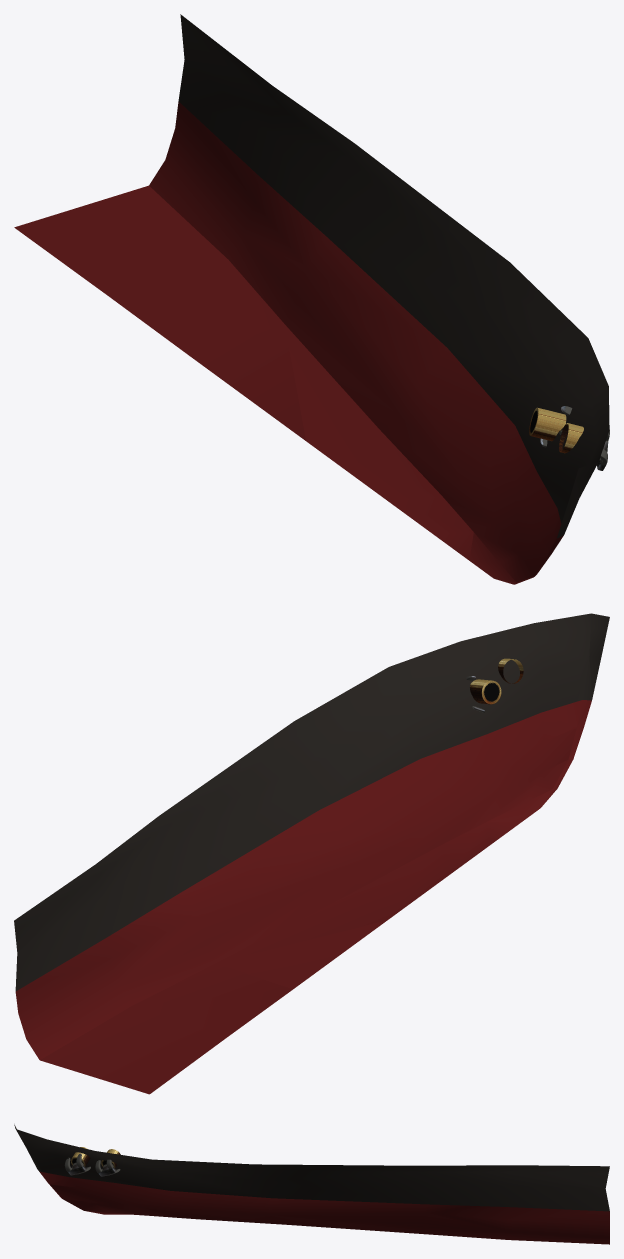
Rendered from container_ship_front_bow.glb.
3 renders of one model, top to bottom at view 1: azimuth 30°, elevation 25°; view 2: azimuth 150°, elevation 25°; view 3: azimuth 270°, elevation 25°, orthographic. The views are drawn at different scales.
Visible parts, largest first — view 1: ellipse_21_acmat_37_002_0.003, ellipse_005_acmat_50_0.003, cylinder_011; view 2: ellipse_21_acmat_37_002_0.003, ellipse_005_acmat_50_0.003; view 3: ellipse_005_acmat_50_0.003, ellipse_21_acmat_37_002_0.003, box_040_acmat_7_004_0.002, box_040.
Part boxes in pixels (x1=…): ellipse_21_acmat_37_002_0.003: x1=14, y1=101, x2=563, y2=584; ellipse_005_acmat_50_0.003: x1=178, y1=14, x2=609, y2=538; cylinder_011: x1=531, y1=408, x2=566, y2=441; ellipse_21_acmat_37_002_0.003: x1=15, y1=700, x2=591, y2=1094; ellipse_005_acmat_50_0.003: x1=14, y1=613, x2=609, y2=991; ellipse_005_acmat_50_0.003: x1=14, y1=1124, x2=609, y2=1211; ellipse_21_acmat_37_002_0.003: x1=39, y1=1171, x2=609, y2=1244; box_040_acmat_7_004_0.002: x1=64, y1=1153, x2=90, y2=1175; box_040: x1=95, y1=1159, x2=120, y2=1176.
Bounding box in the file's own units: 2.87 × 2.84 × 16.83.
Materials: 6 (6 with a texture image).
